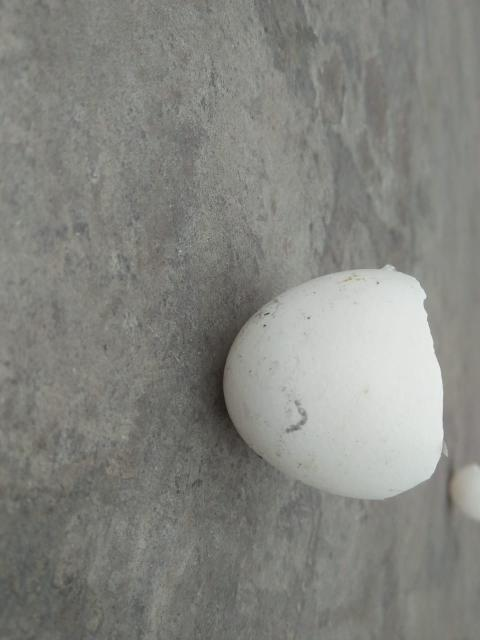Roto: (222, 263, 446, 500)
